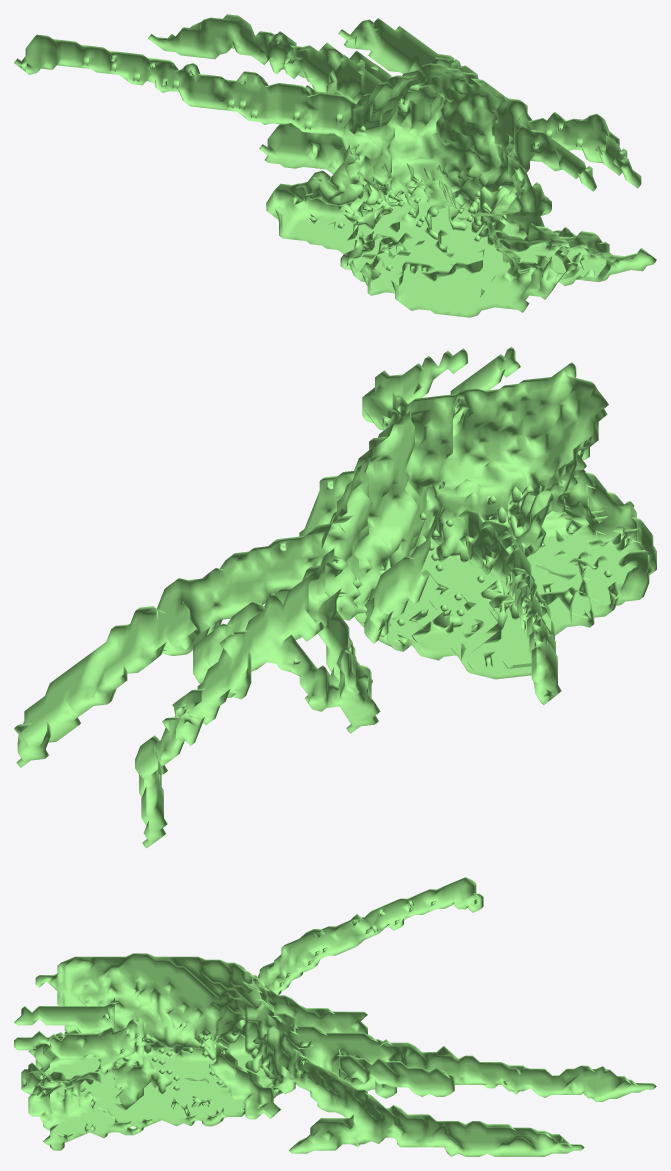
Rendered from osteocyte_28.glb.
3 renders of one model, top to bottom at view 1: azimuth 30°, elevation 25°; view 2: azimuth 150°, elevation 25°; view 3: azimuth 270°, elevation 25°, orthographic. The views are drawn at different scales.
Parts seen in each view (by area): view 1: osteocyte_28; view 2: osteocyte_28; view 3: osteocyte_28.
Boxes of the visible parts, box(x1,y1,x2,y2) form: osteocyte_28: box(14, 14, 656, 317); osteocyte_28: box(14, 346, 656, 848); osteocyte_28: box(14, 877, 656, 1156).
Size of the model in its own units: 24.59 by 8.05 by 39.79.
